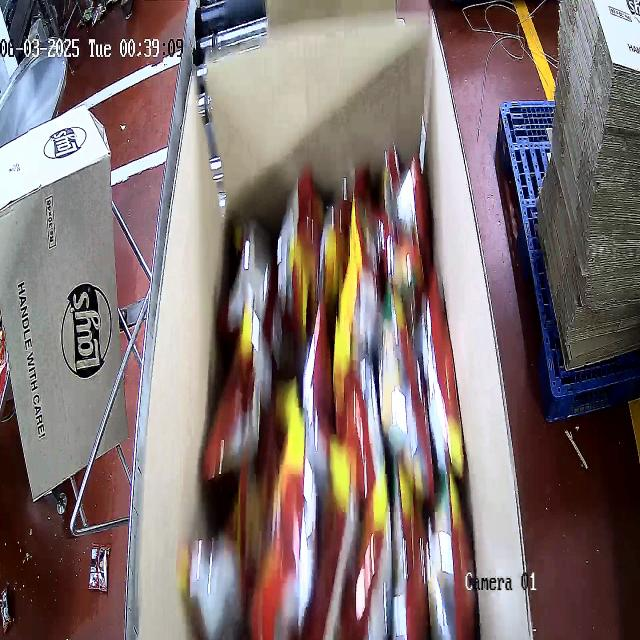MASALA: (189, 136, 477, 638)
